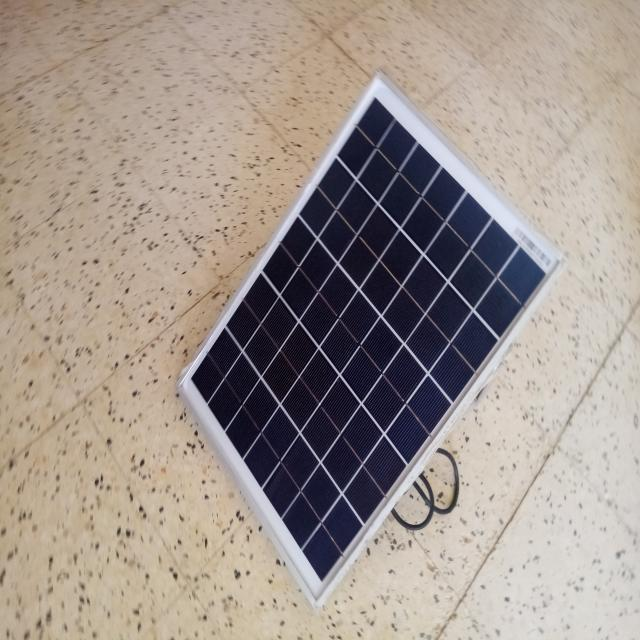Normal Solar Panel: (182, 72, 557, 601)
